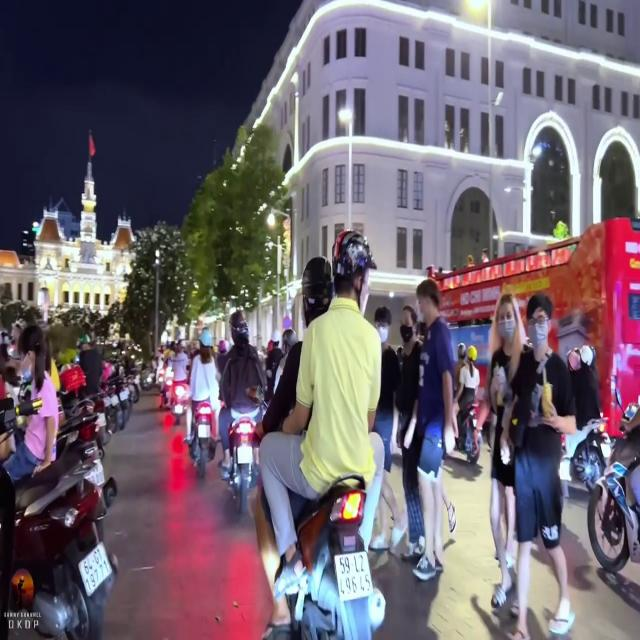bien_trang: (333, 552, 372, 594), (77, 546, 114, 587)
